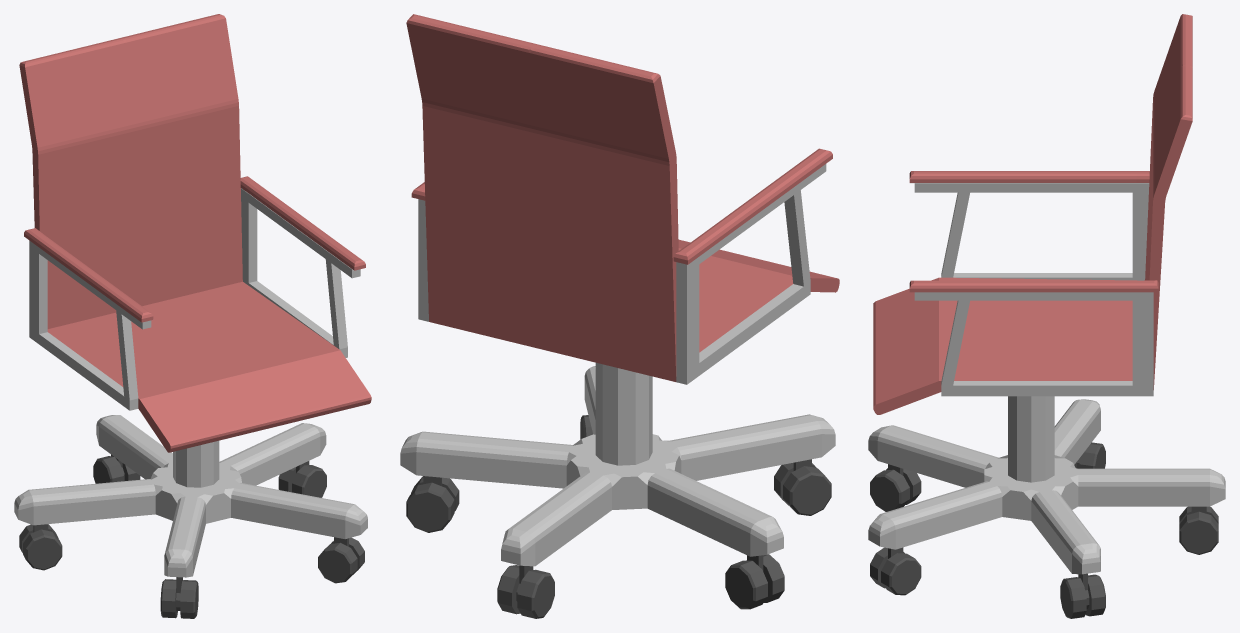
The model's file is chair_pink.fbx.
The picture shows the model from 3 angles, left to right: view 1: azimuth 30°, elevation 25°; view 2: azimuth 150°, elevation 25°; view 3: azimuth 270°, elevation 25°; orthographic projection. The views are drawn at different scales.
Visible parts, largest first — view 1: chair_pink; view 2: chair_pink; view 3: chair_pink.
Boxes of the visible parts, box(x1,y1,x2,y2) form: chair_pink: box(14, 14, 371, 618); chair_pink: box(400, 14, 839, 618); chair_pink: box(868, 14, 1225, 618).
Bounding box in the file's own units: 108 × 154 × 103.
